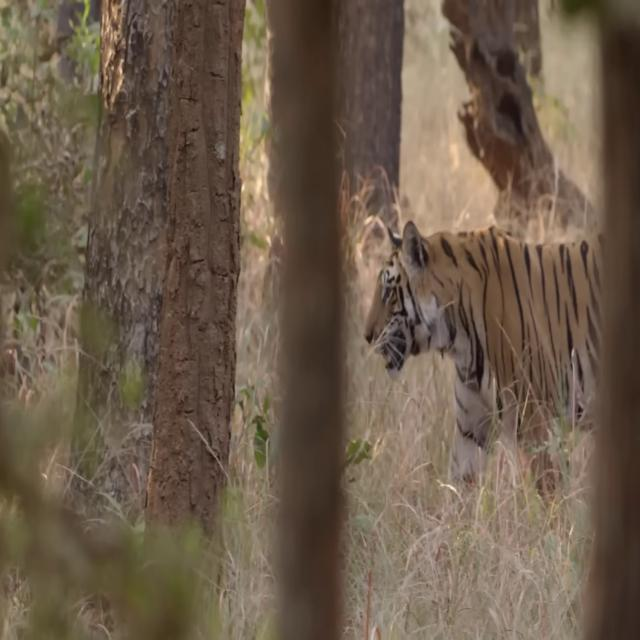tiger: (364, 222, 608, 568)
